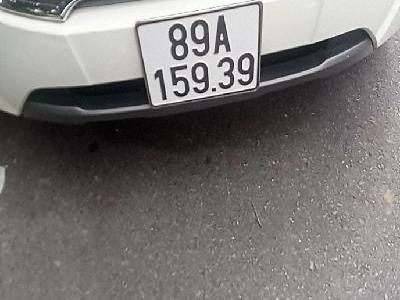number: (138, 2, 263, 106)
